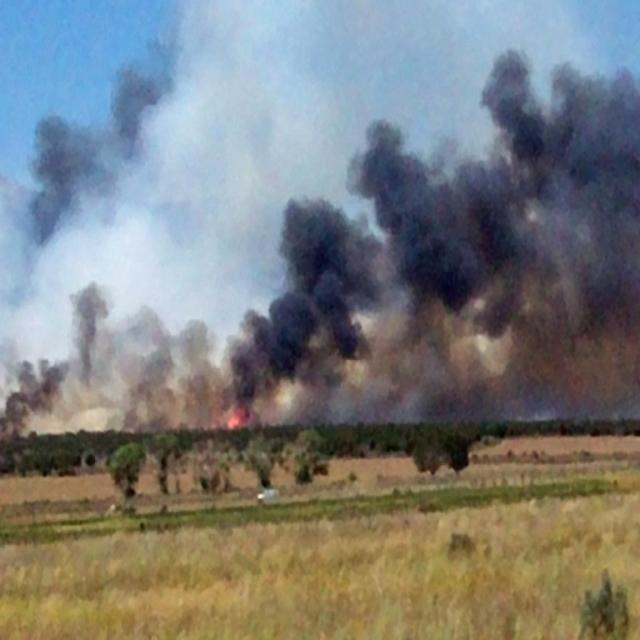Fire: (224, 392, 248, 434)
Smoke: (343, 2, 640, 420), (2, 34, 206, 440), (158, 192, 396, 350)
